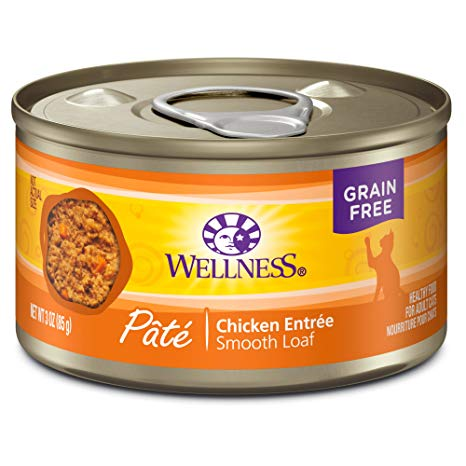Rec_Metal: (7, 51, 448, 406)
